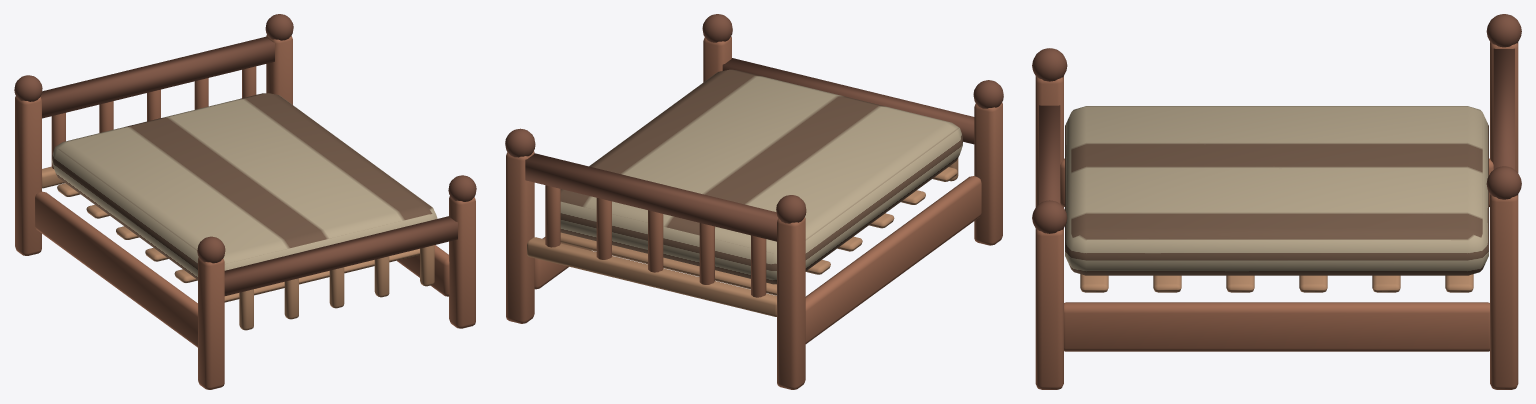
The model's file is wooden-bed.glb.
The picture shows the model from 3 angles, left to right: view 1: azimuth 30°, elevation 25°; view 2: azimuth 150°, elevation 25°; view 3: azimuth 270°, elevation 25°; orthographic projection. The views are drawn at different scales.
Parts seen in each view (by area): view 1: mattress, merged_wood, merged_wood_dark, merged_wood_worn; view 2: mattress, merged_wood, merged_wood_dark, merged_wood_worn; view 3: mattress, merged_wood, merged_wood_dark, merged_wood_worn.
Boxes of the visible parts, x1,y1,x2,y2 form: mattress: (52, 93, 437, 279); merged_wood: (15, 34, 475, 389); merged_wood_dark: (14, 14, 476, 295); merged_wood_worn: (42, 166, 434, 330); mattress: (560, 69, 962, 284); merged_wood: (506, 36, 1002, 389); merged_wood_dark: (505, 14, 1003, 241); merged_wood_worn: (527, 158, 958, 316); mattress: (1065, 106, 1488, 275); merged_wood: (1035, 42, 1518, 389); merged_wood_dark: (1032, 14, 1521, 233); merged_wood_worn: (1080, 274, 1473, 292).
Size of the model in its own units: 1.68 by 1.03 by 2.08.
4 materials, 1 textured.
